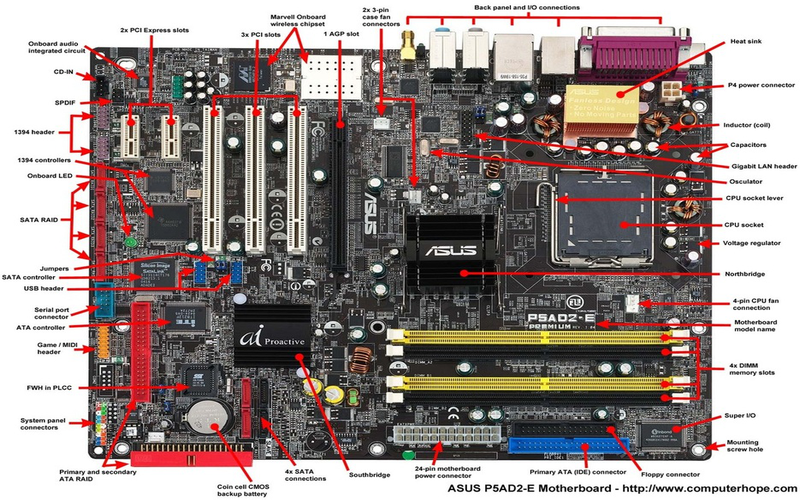Cirtuit-Board: (83, 21, 718, 467)
